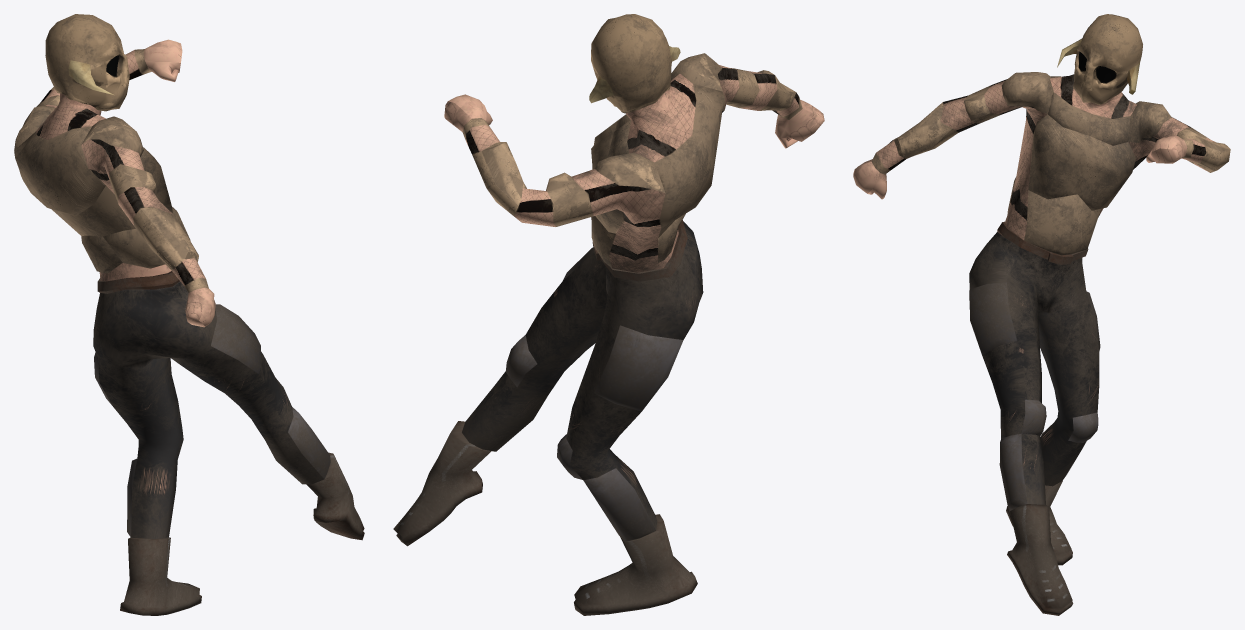
File: Anim_ataque_f1_npc1.0024.obj
3 views of the same model, side by side, from view 1: azimuth 30°, elevation 25°; view 2: azimuth 150°, elevation 25°; view 3: azimuth 270°, elevation 25° (orthographic). The views are drawn at different scales.
Visible parts, largest first — view 1: NPC2; view 2: NPC2; view 3: NPC2.
Boxes of the visible parts, x1,y1,x2,y2 form: NPC2: (14, 14, 364, 615); NPC2: (393, 14, 824, 615); NPC2: (853, 14, 1230, 615).
Size of the model in its own units: 4.98 by 9.11 by 6.06.
